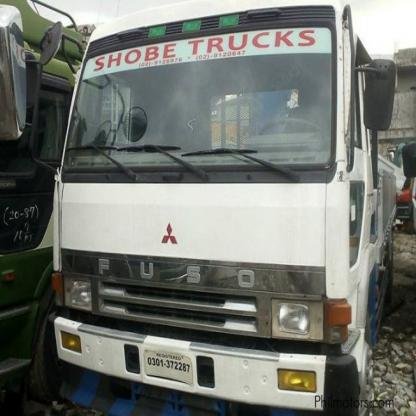truck: (53, 1, 401, 416)
